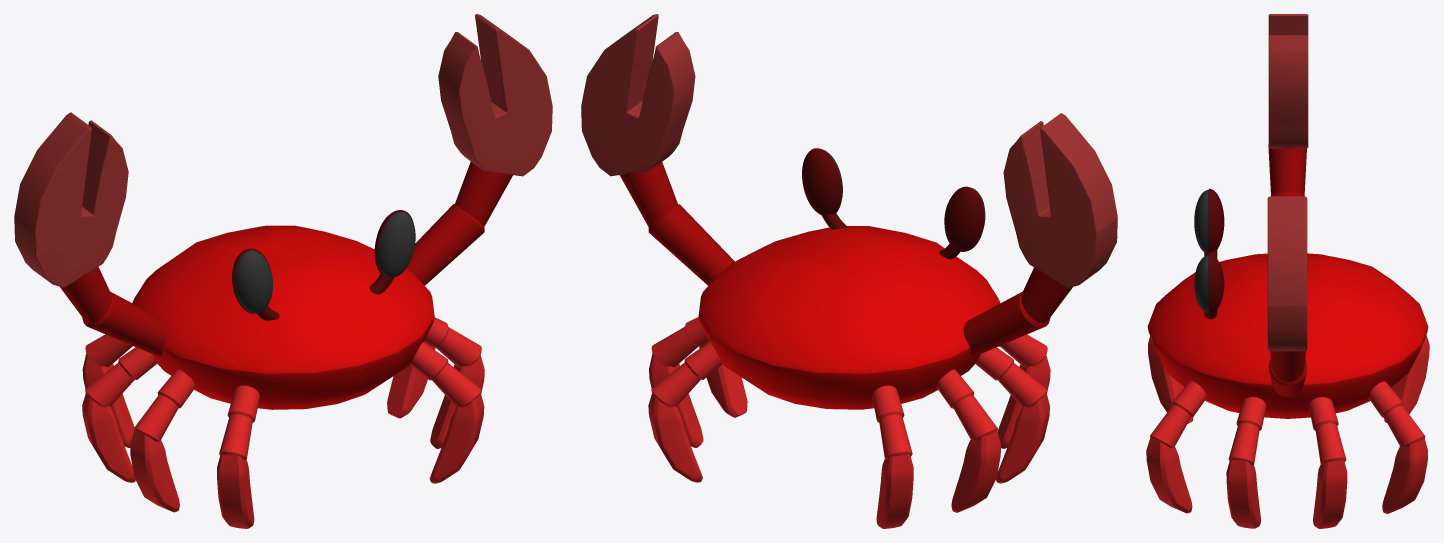
File: Crab.fbx
3 views of the same model, side by side, from view 1: azimuth 30°, elevation 25°; view 2: azimuth 150°, elevation 25°; view 3: azimuth 270°, elevation 25° (orthographic). The views are drawn at different scales.
Visible parts, largest first — view 1: Crab_Model; view 2: Crab_Model; view 3: Crab_Model.
Boxes of the visible parts, box(x1,y1,x2,y2) form: Crab_Model: box(14, 14, 552, 528); Crab_Model: box(581, 14, 1117, 528); Crab_Model: box(1146, 14, 1429, 528).
Size of the model in its own units: 3.99 by 2.9 by 2.05.
